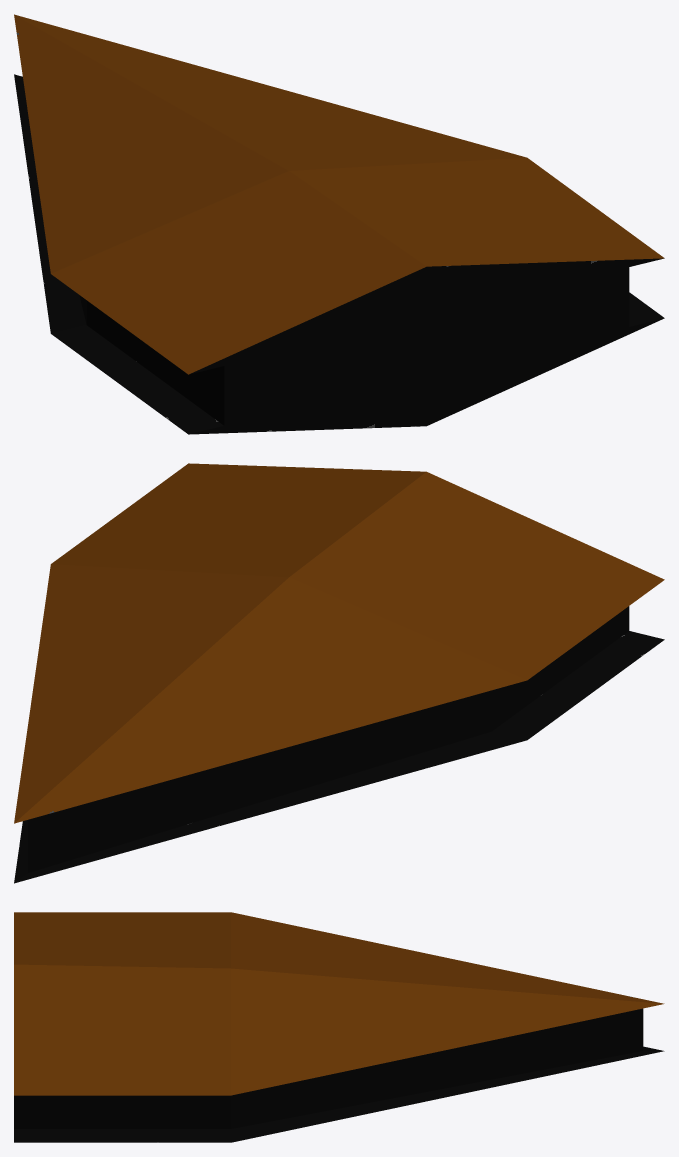
The model's file is player.gltf.
3 renders of one model, top to bottom at view 1: azimuth 30°, elevation 25°; view 2: azimuth 150°, elevation 25°; view 3: azimuth 270°, elevation 25°, orthographic. The views are drawn at different scales.
Visible parts, largest first — view 1: Cube; view 2: Cube; view 3: Cube.
Part boxes in pixels (<box>): Cube: <box>14,14,664,434</box>; Cube: <box>14,463,664,883</box>; Cube: <box>14,912,664,1142</box>.
Bounding box in the file's own units: 4 × 1.28 × 6.
Materials: 1 (1 with a texture image).
